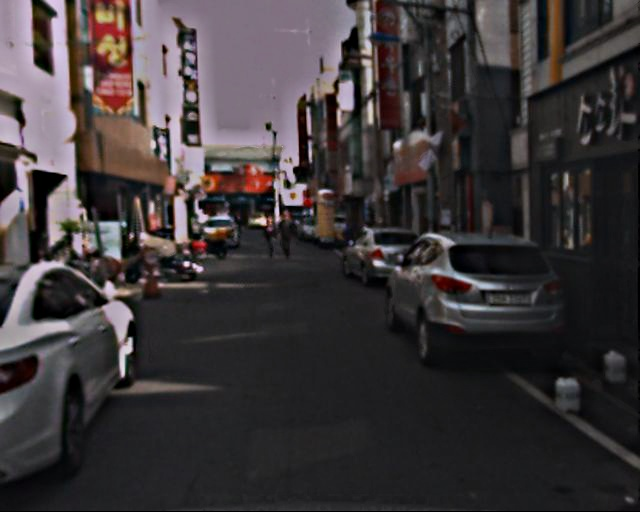person: (340, 216, 362, 274), (278, 213, 299, 268), (262, 217, 282, 265)
